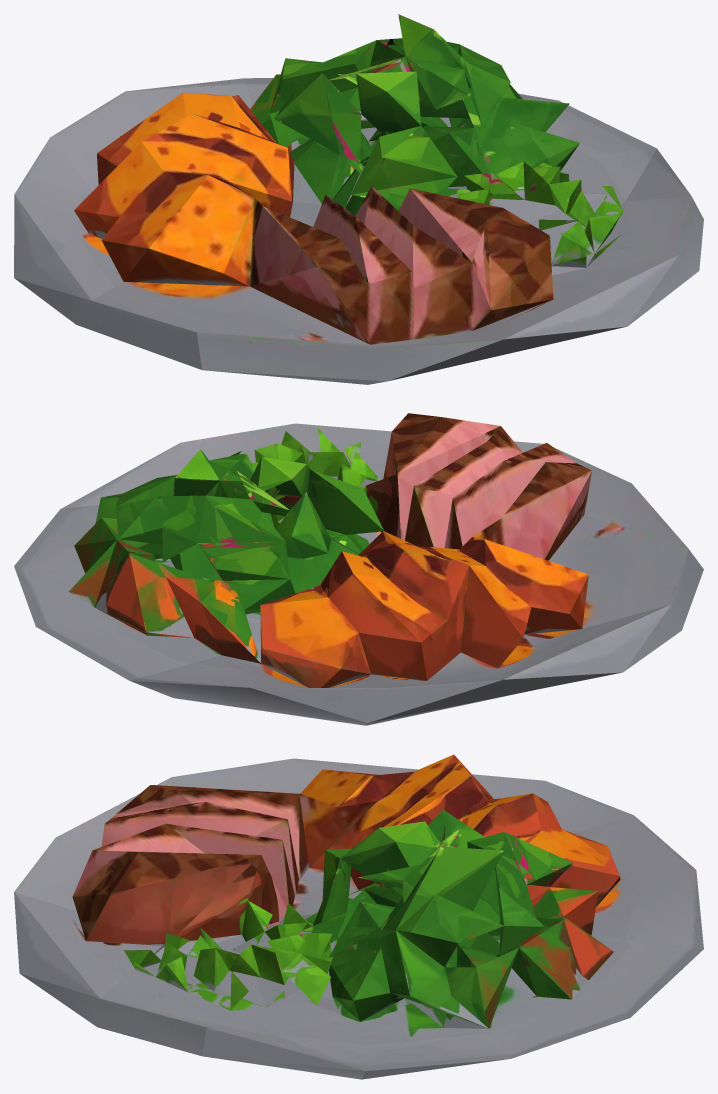
File: meal.glb
The picture shows the model from 3 angles, top to bottom: view 1: azimuth 30°, elevation 25°; view 2: azimuth 150°, elevation 25°; view 3: azimuth 270°, elevation 25°; orthographic projection. The views are drawn at different scales.
Parts seen in each view (by area): view 1: output_unwrapped; view 2: output_unwrapped; view 3: output_unwrapped.
Boxes of the visible parts, x1,y1,x2,y2 form: output_unwrapped: (14,14,703,384); output_unwrapped: (14,413,703,725); output_unwrapped: (14,754,703,1079).
Bounding box in the file's own units: 1.9 × 0.507 × 1.85.
Materials: 1 (1 with a texture image).
